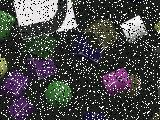Left: (13, 0, 77, 40)
